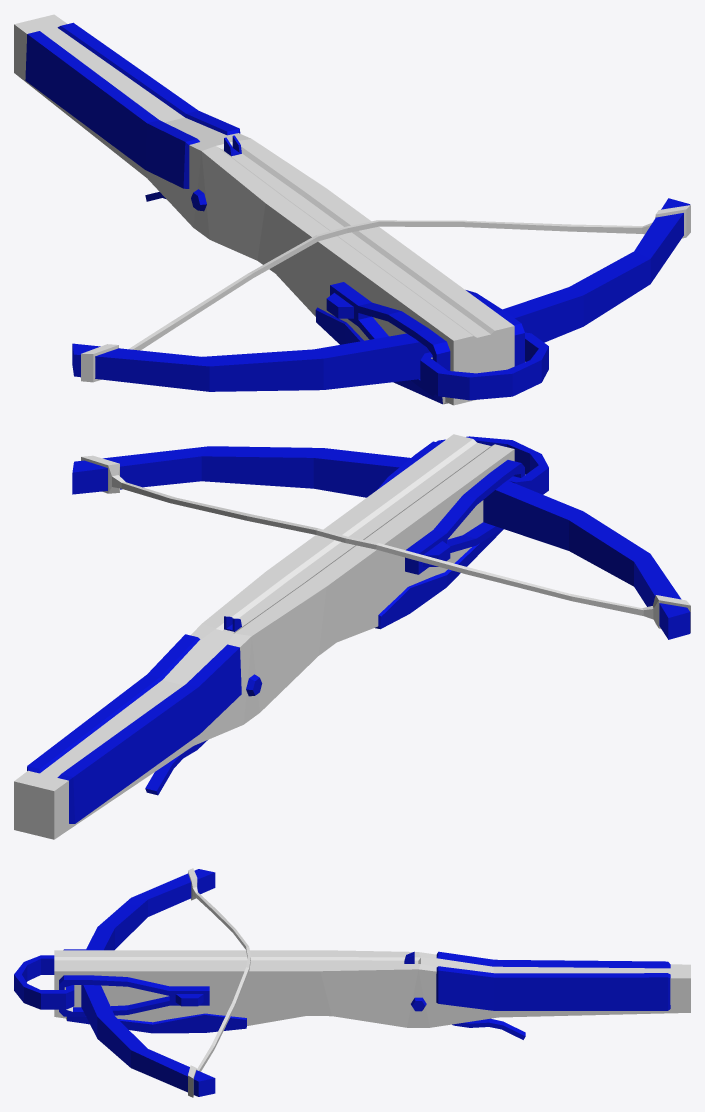
Rendered from EmptyCrossbow.fbx.
3 renders of one model, top to bottom at view 1: azimuth 30°, elevation 25°; view 2: azimuth 150°, elevation 25°; view 3: azimuth 270°, elevation 25°, orthographic. The views are drawn at different scales.
Parts seen in each view (by area): view 1: crossbow_holder; view 2: crossbow_holder; view 3: crossbow_holder.
Boxes of the visible parts, <box> form: crossbow_holder: <box>14,14,690,405</box>; crossbow_holder: <box>14,434,690,839</box>; crossbow_holder: <box>14,868,690,1097</box>.
Size of the model in its own units: 1040 by 194 by 1398.
